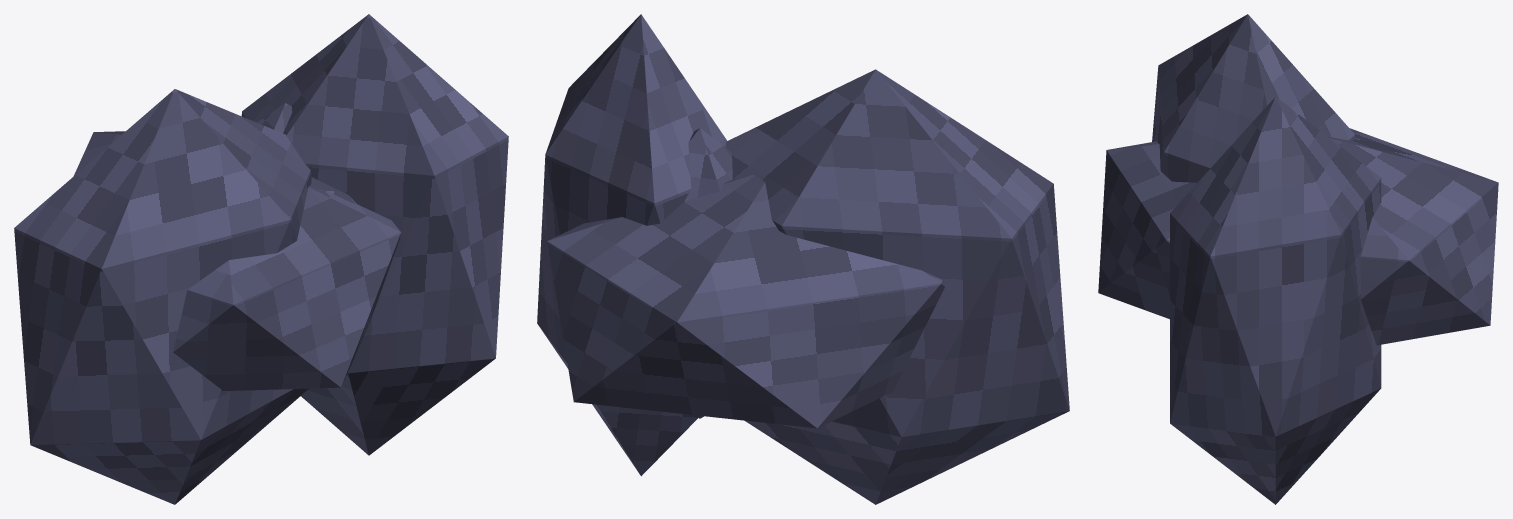
File: ruin_34.glb
3 views of the same model, side by side, from view 1: azimuth 30°, elevation 25°; view 2: azimuth 150°, elevation 25°; view 3: azimuth 270°, elevation 25° (orthographic). The views are drawn at different scales.
Parts seen in each view (by area): view 1: WeatheredStone, WeatheredStone.003, WeatheredStone.001, WeatheredStone.002; view 2: WeatheredStone, WeatheredStone.001, WeatheredStone.003, WeatheredStone.002; view 3: WeatheredStone.003, WeatheredStone.001, WeatheredStone.
Boxes of the visible parts, x1,y1,x2,y2 form: WeatheredStone: [14, 89, 311, 504]; WeatheredStone.003: [241, 14, 508, 455]; WeatheredStone.001: [73, 131, 400, 391]; WeatheredStone.002: [257, 103, 356, 204]; WeatheredStone: [725, 69, 1069, 504]; WeatheredStone.001: [547, 175, 944, 428]; WeatheredStone.003: [537, 14, 726, 476]; WeatheredStone.002: [685, 128, 732, 418]; WeatheredStone.003: [1170, 96, 1381, 504]; WeatheredStone.001: [1098, 128, 1498, 345]; WeatheredStone: [1152, 14, 1354, 182].
Size of the model in its own units: 3.09 by 2.73 by 2.42.
1 material, 1 textured.
